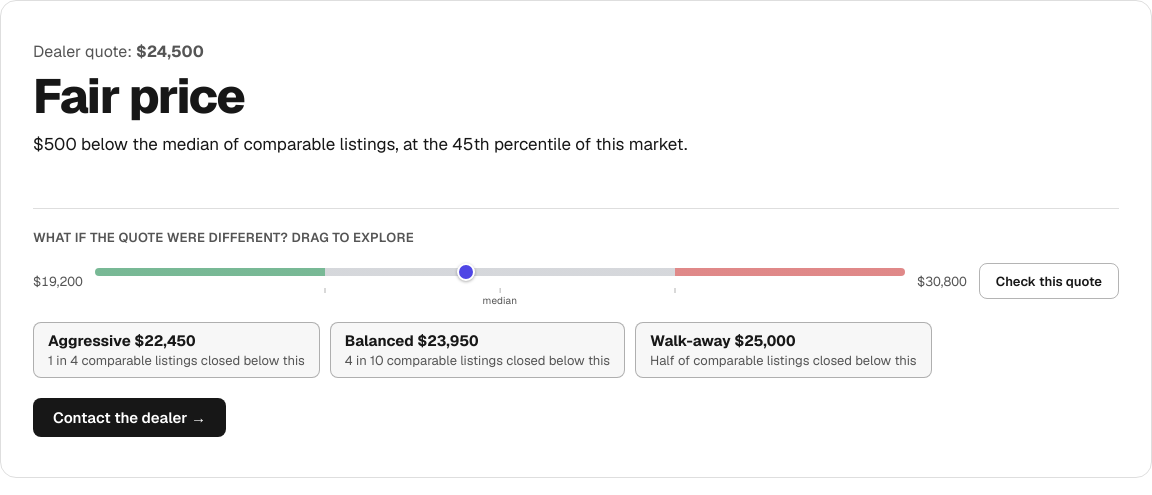
it: QuoteExplorer › counter-offer chips › clicking a chip updates the verdict and slider without navigating
Click the link with test id "chip-aggressive" at (176, 350), box top-left (33, 322), bottom-right (320, 378)
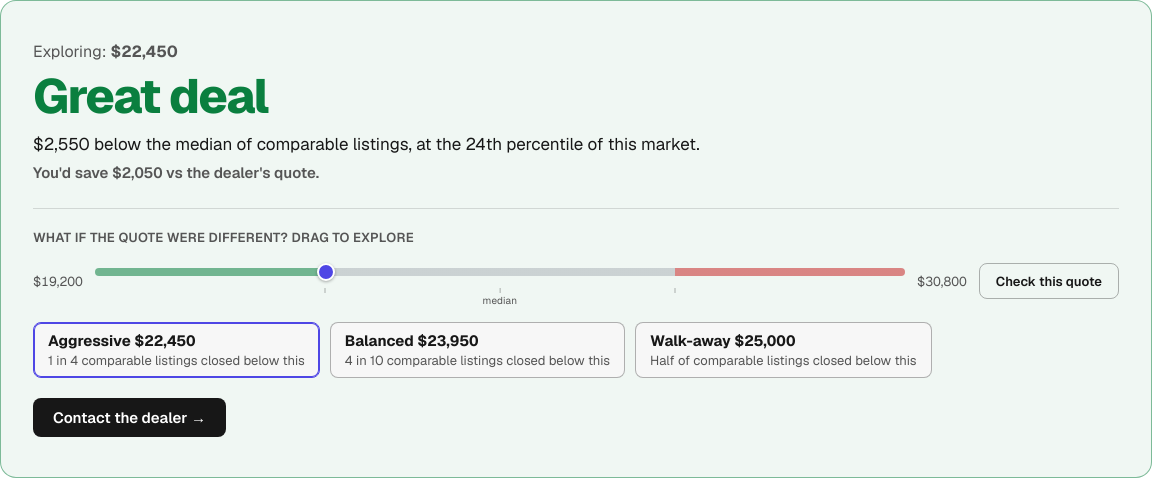
Expected: the element with test id "verdict-hero" shows "Great deal", top-left (33, 65), bottom-right (268, 127)
Expected: the slider labelled "What if the quote were different? Drag to explore" holds "22450", top-left (95, 256), bottom-right (905, 288)
